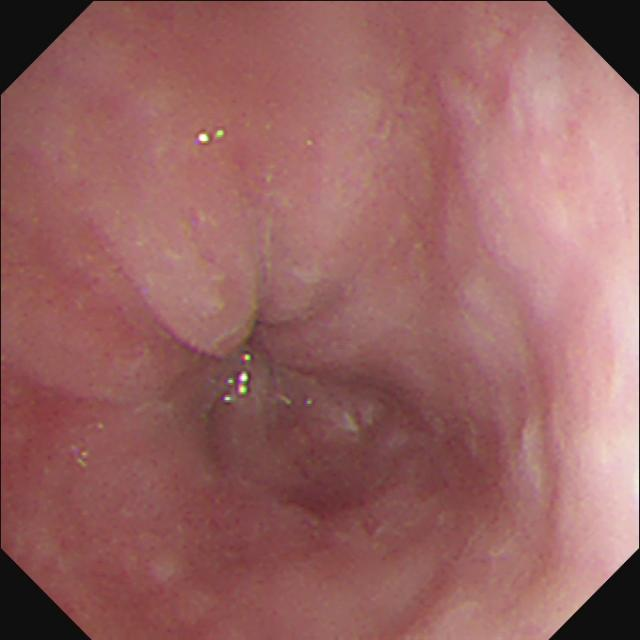I: (120, 245, 387, 468)
